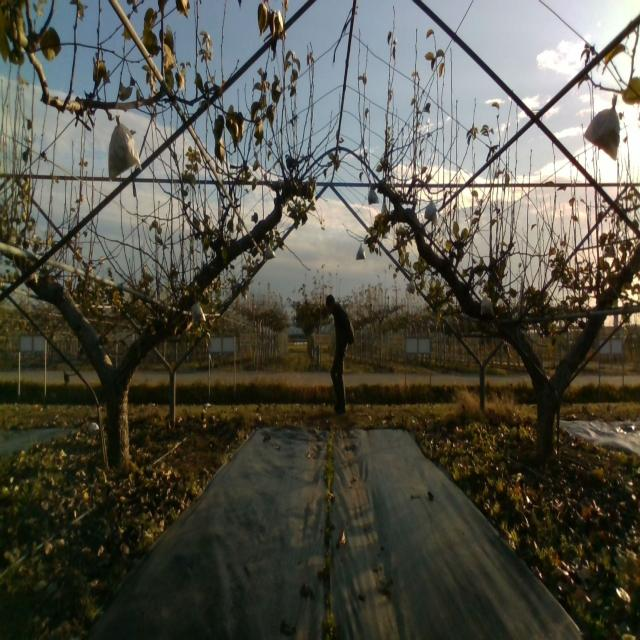pearbags: (323, 292, 355, 415), (584, 95, 620, 159), (107, 121, 142, 181), (188, 304, 208, 324), (480, 292, 494, 318), (424, 201, 439, 224), (368, 188, 379, 205)
